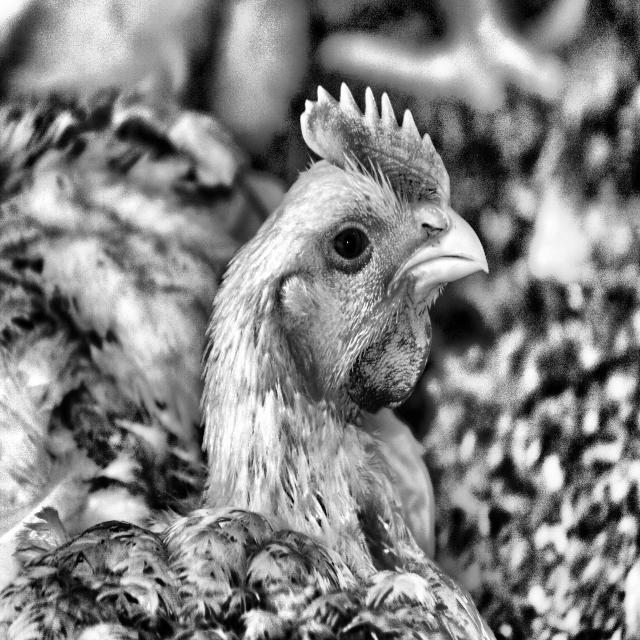Newcastle: (15, 83, 498, 635)
